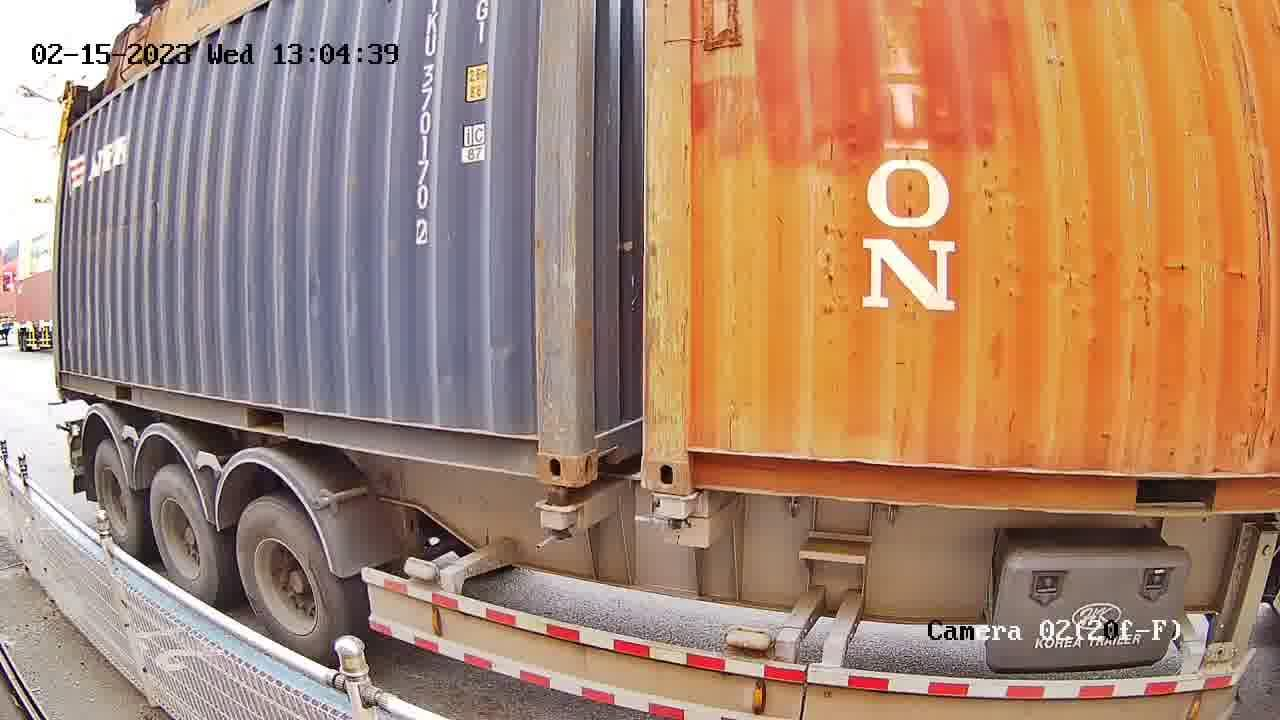Cone: (536, 484, 583, 542), (647, 491, 701, 532)
Hole_L: (644, 427, 730, 491), (579, 394, 630, 484)
Hole_R: (505, 405, 580, 481)
Tire: (237, 503, 341, 658), (149, 475, 215, 599), (91, 453, 136, 553)
